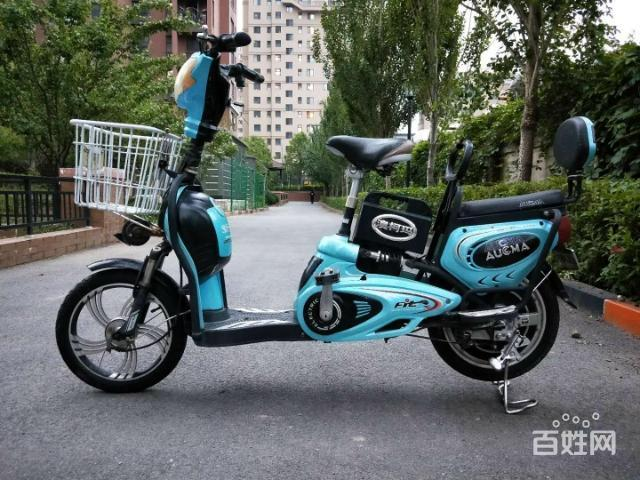电动车: (57, 19, 603, 419)
